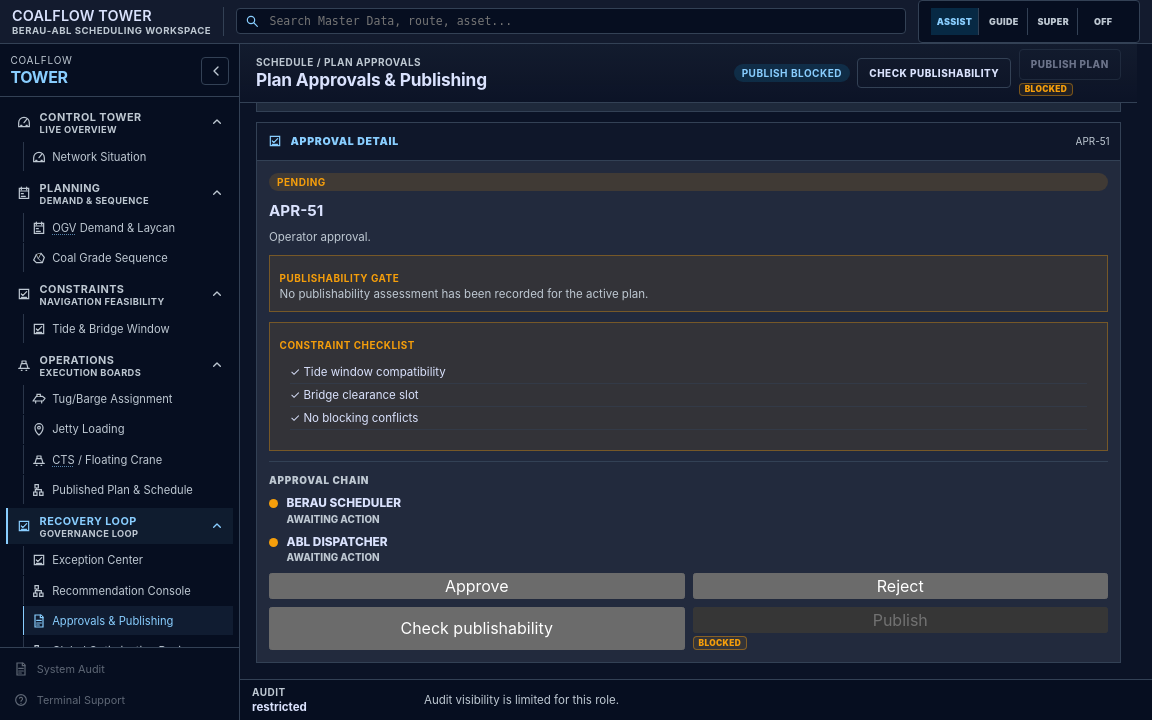
approval actions update from mutation responses while overview refresh is slow
This screenshot has width=1152, height=720.
(page scrolled)
expect the heading "Plan Approvals & Publishing" is shown: met, box [256,70,487,89]
Click the button "Approve".
click(477, 586)  # box [269,573,684,599]
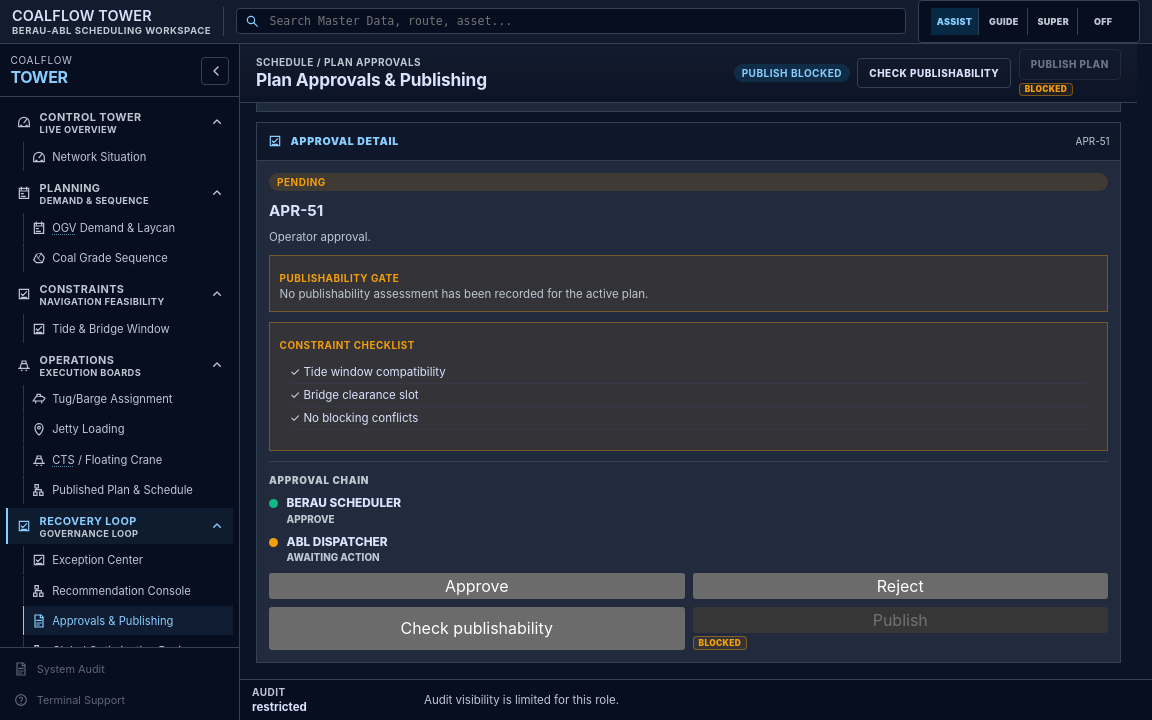
Click the button "Approve".
click(477, 586)  # box [269,573,684,599]
(page scrolled)
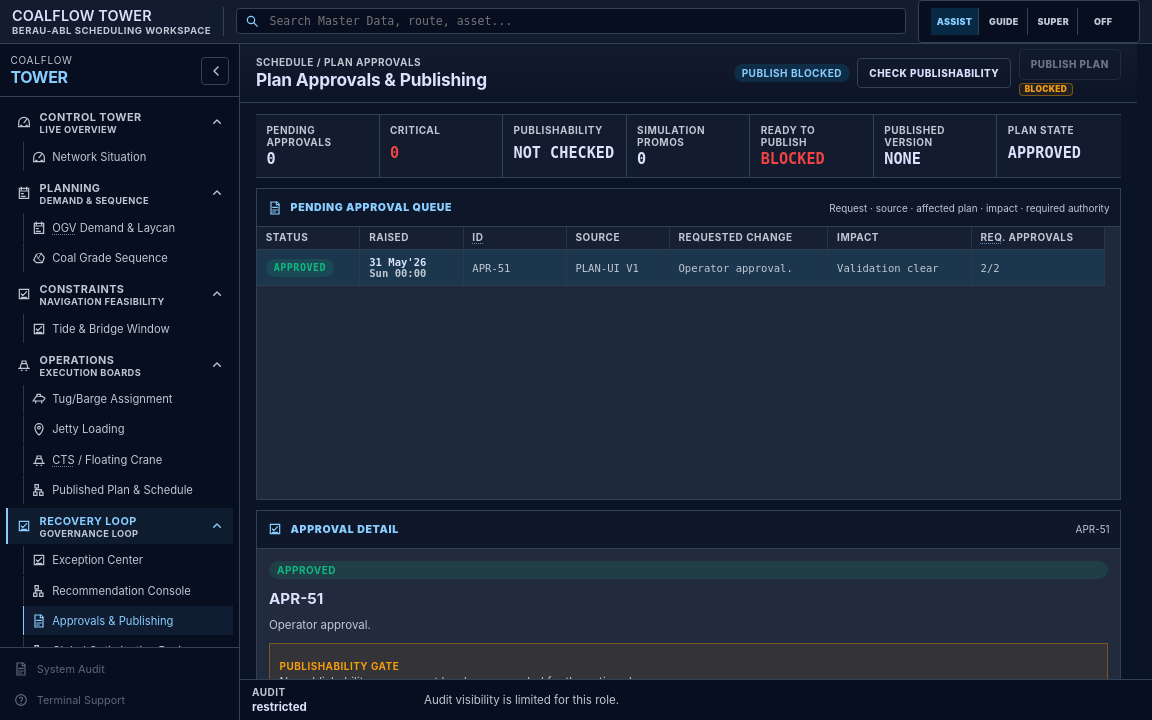
expect the text "2/2" is shown: met, box [971,250,1104,285]
